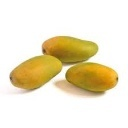mango: (10, 55, 63, 89)
